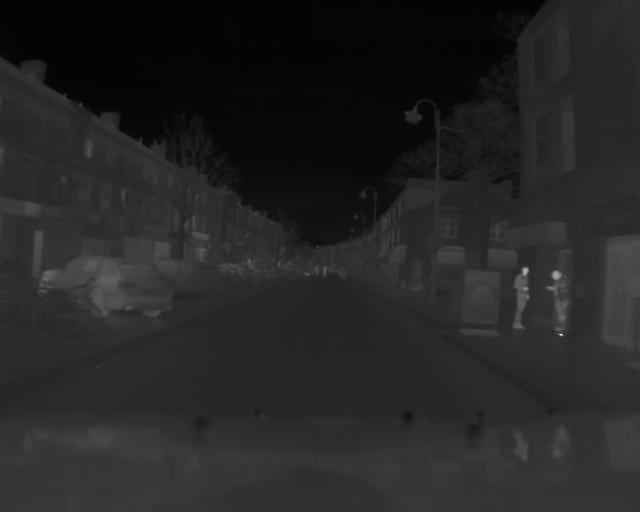car: (38, 255, 178, 324)
person: (545, 266, 573, 340), (511, 261, 533, 333)
